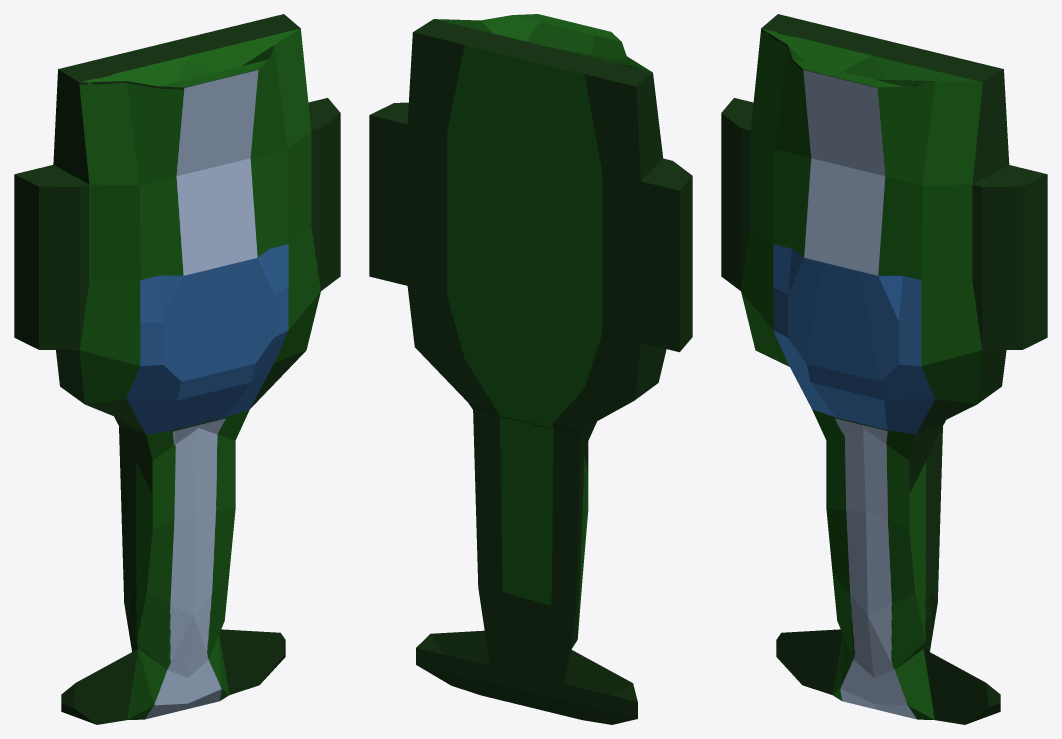
The model's file is TheDruid3.fbx.
3 views of the same model, side by side, from view 1: azimuth 30°, elevation 25°; view 2: azimuth 150°, elevation 25°; view 3: azimuth 330°, elevation 25° (orthographic).
Parts seen in each view (by area): view 1: Plane; view 2: Plane; view 3: Plane.
Boxes of the visible parts, bbox=[...] form: Plane: bbox=[14, 14, 340, 724]; Plane: bbox=[369, 14, 692, 724]; Plane: bbox=[721, 14, 1047, 724].
Bounding box in the file's own units: 95.54 × 192 × 26.66.
